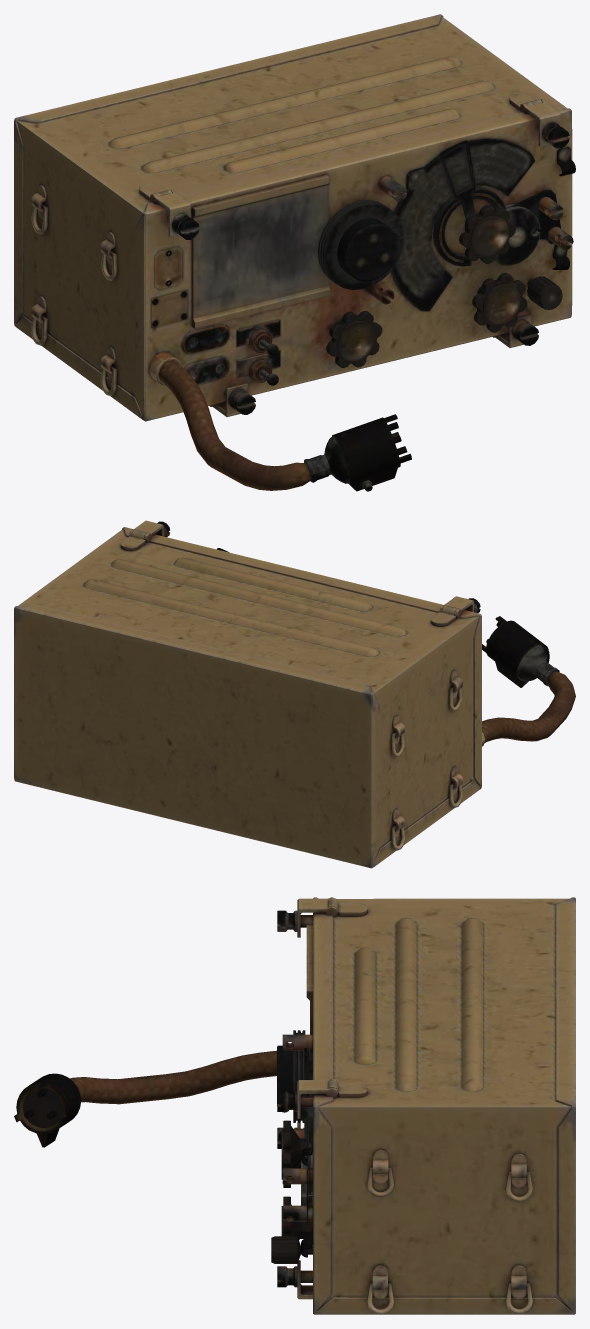
The model's file is military-radio.glb.
The picture shows the model from 3 angles, top to bottom: view 1: azimuth 30°, elevation 25°; view 2: azimuth 150°, elevation 25°; view 3: azimuth 270°, elevation 25°; orthographic projection. The views are drawn at different scales.
Visible parts, largest first — view 1: Object_2, Object_4, Object_9, Object_8, Object_3, Object_5, Object_7, Object_6, Object_11, Object_12, Object_10; view 2: Object_2, Object_11, Object_12; view 3: Object_2, Object_12, Object_8, Object_11, Object_3, Object_10, Object_4.
Boxes of the visible parts, box(x1,y1,x2,y2) form: Object_2: box(14, 14, 575, 491); Object_4: box(191, 174, 330, 328); Object_9: box(391, 138, 534, 311); Object_8: box(326, 205, 527, 367); Object_3: box(318, 199, 403, 290); Object_5: box(151, 246, 187, 327); Object_7: box(433, 187, 560, 266); Object_6: box(494, 204, 540, 265); Object_11: box(31, 203, 117, 395); Object_12: box(31, 185, 115, 381); Object_10: box(527, 276, 562, 309); Object_2: box(14, 520, 575, 868); Object_11: box(391, 686, 462, 850); Object_12: box(392, 670, 463, 837); Object_2: box(14, 897, 575, 1314); Object_12: box(307, 1050, 526, 1299); Object_8: box(281, 1120, 312, 1239); Object_11: box(366, 1167, 532, 1314); Object_3: box(277, 1030, 305, 1122); Object_10: box(271, 1236, 312, 1263); Object_4: box(306, 925, 312, 1034).
Bounding box in the file's own units: 0.4152 × 0.2008 × 0.45.
Materials: 7 (7 with a texture image).
